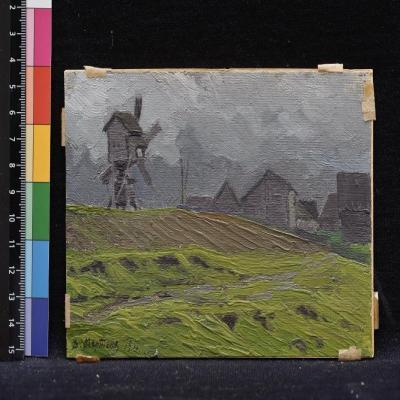painting: (64, 70, 374, 358)
